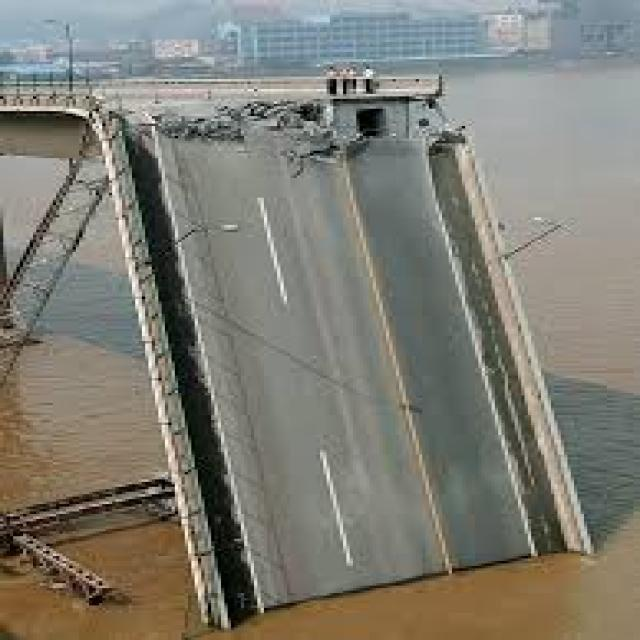bridge collapse: (42, 48, 640, 640)
